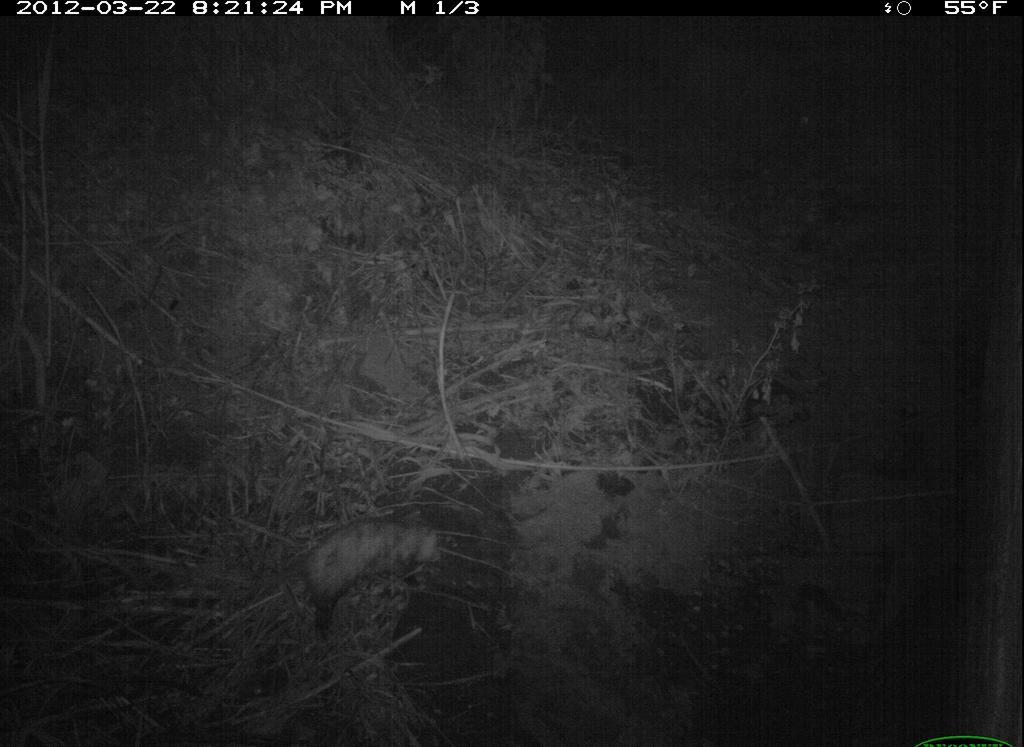opossum: (286, 514, 450, 644)
